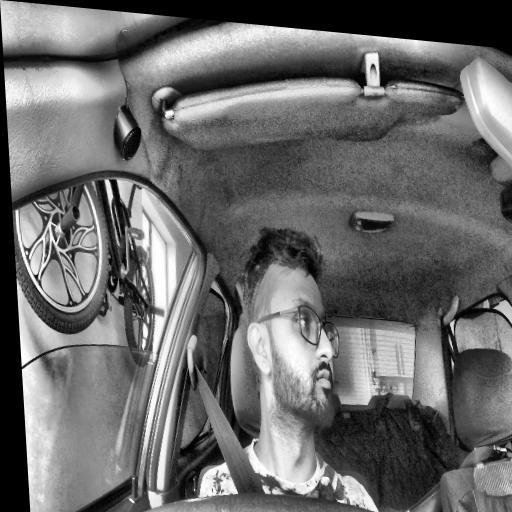awake: (236, 223, 345, 433)
